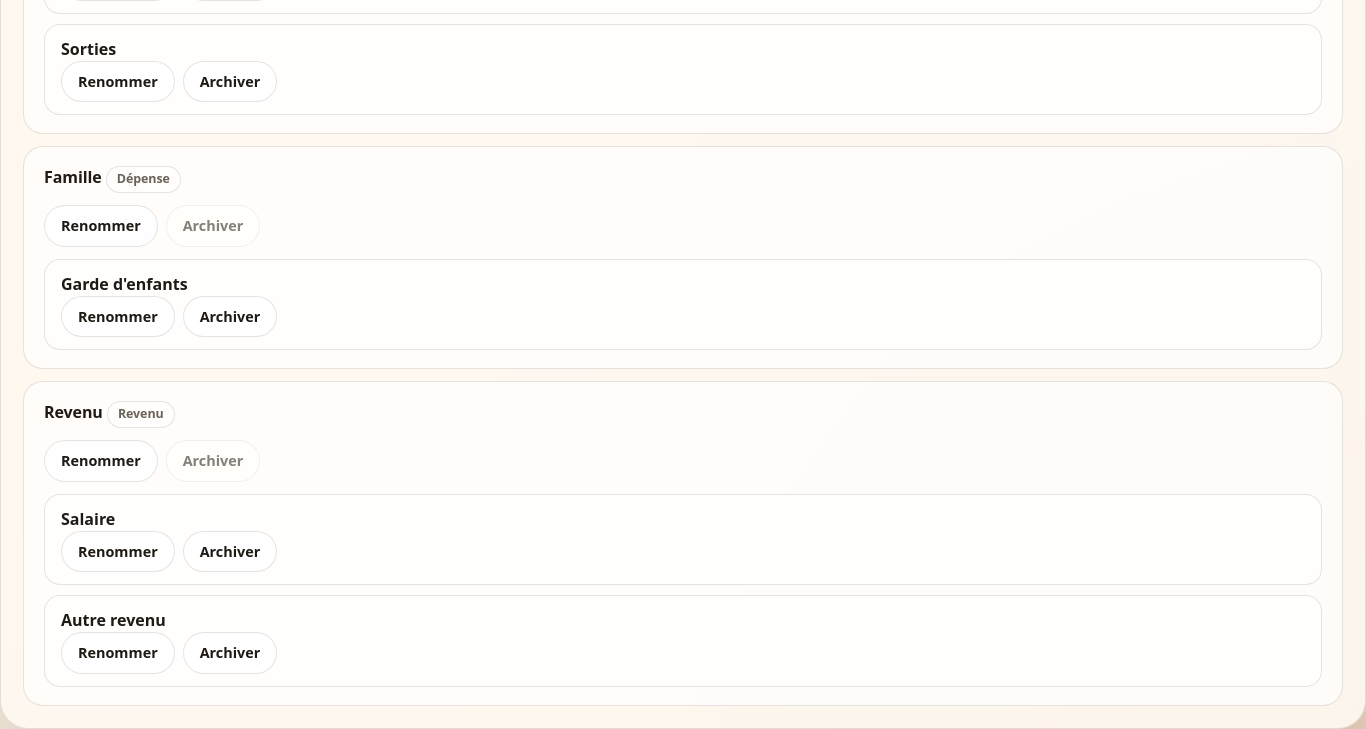
FinanceCategoriesPage › never offers Non catégorisé for an income category, and blocks archiving without a target
This screenshot has width=1366, height=729.
(page scrolled)
What coordinates should you click on to do the following:
click the button with aria-label "Archiver Salaire"
I would click on:
 (230, 551)
Its box is [183,530,277,572].
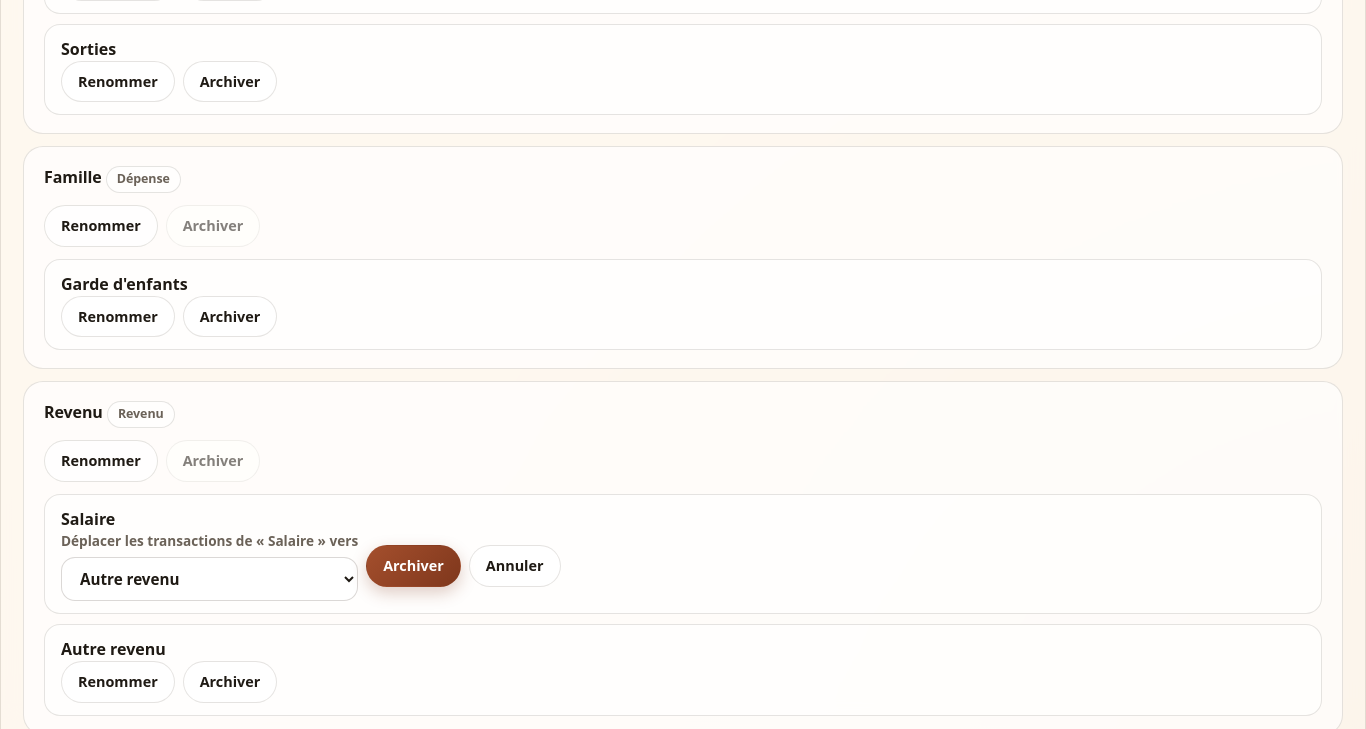
What coordinates should you click on to do the following:
click the button "Annuler"
I would click on:
 (515, 566)
Its box is [469,545,560,586].
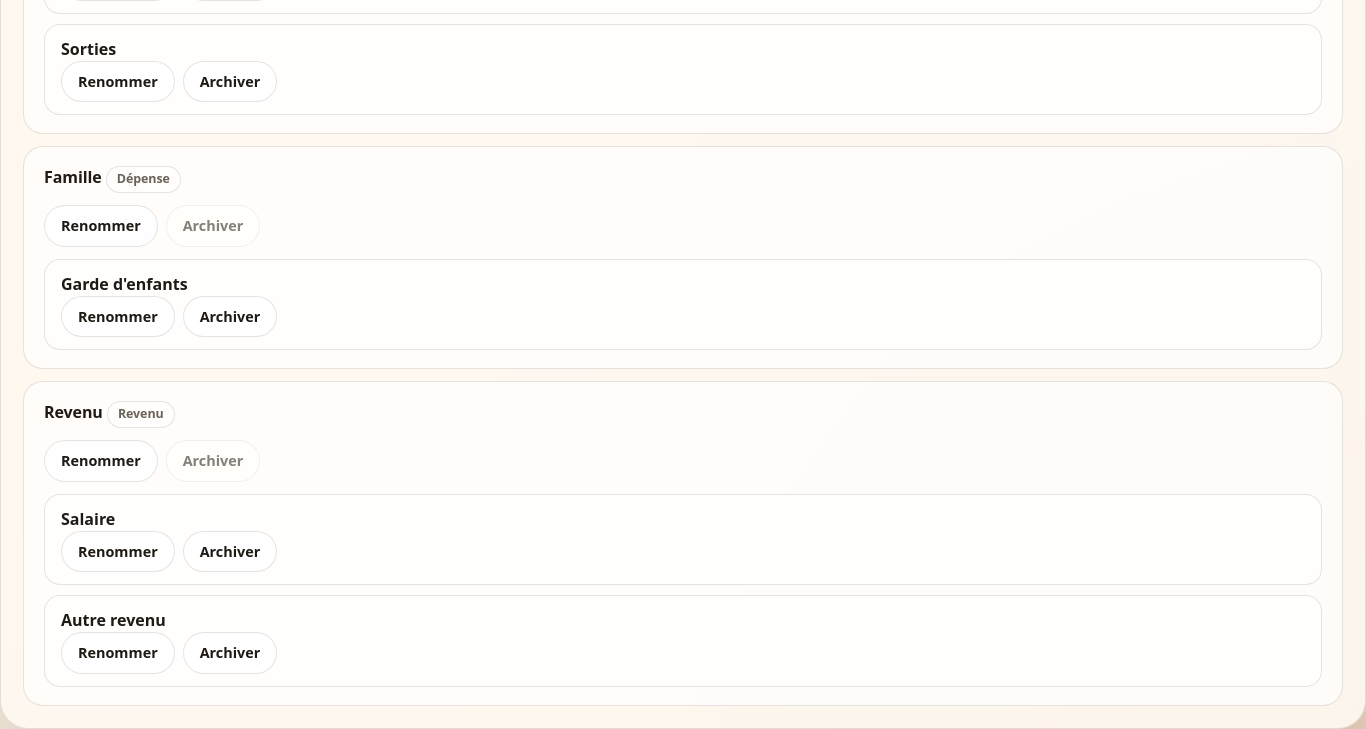
What coordinates should you click on to do the following:
click the button with aria-label "Archiver Autre revenu"
I would click on:
 (230, 653)
Its box is [183,632,277,674].
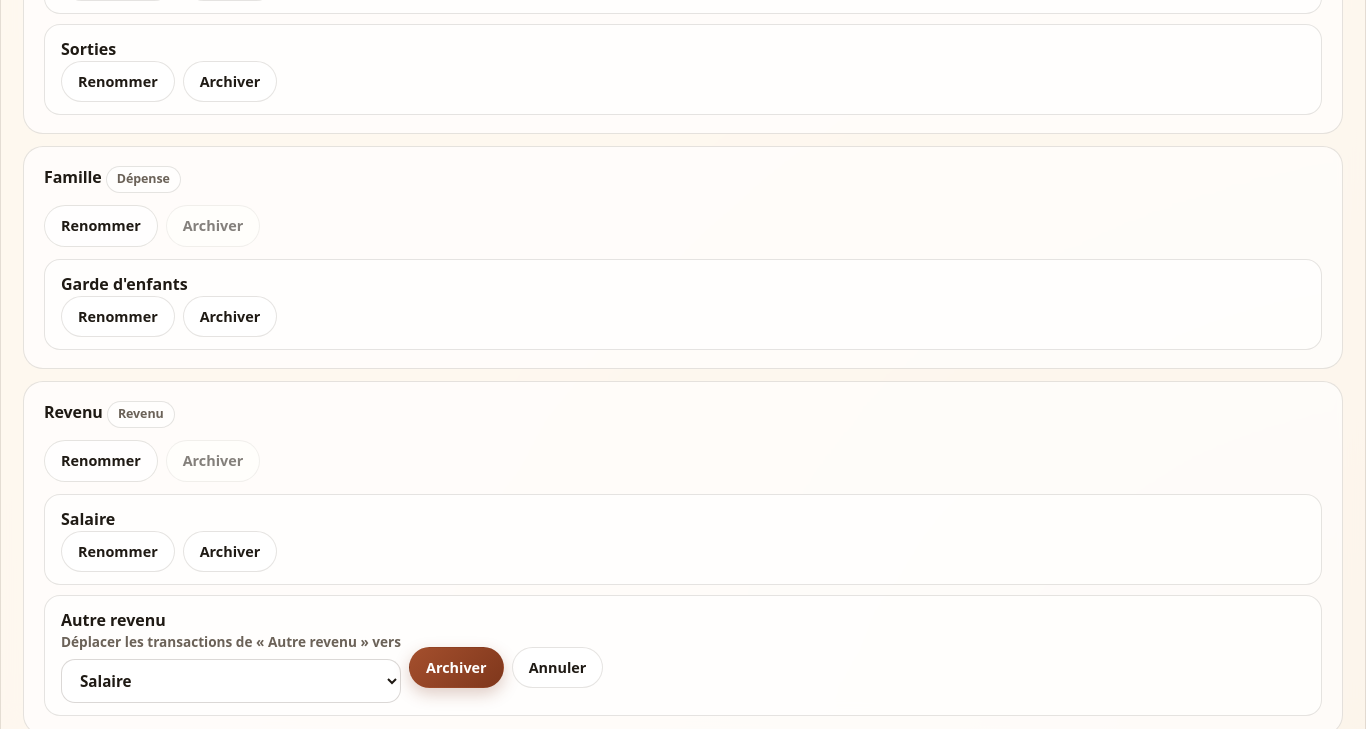
What coordinates should you click on to do the following:
click the 7th button "Archiver"
I would click on:
 (456, 667)
Its box is [409,646,504,688].
(page scrolled)
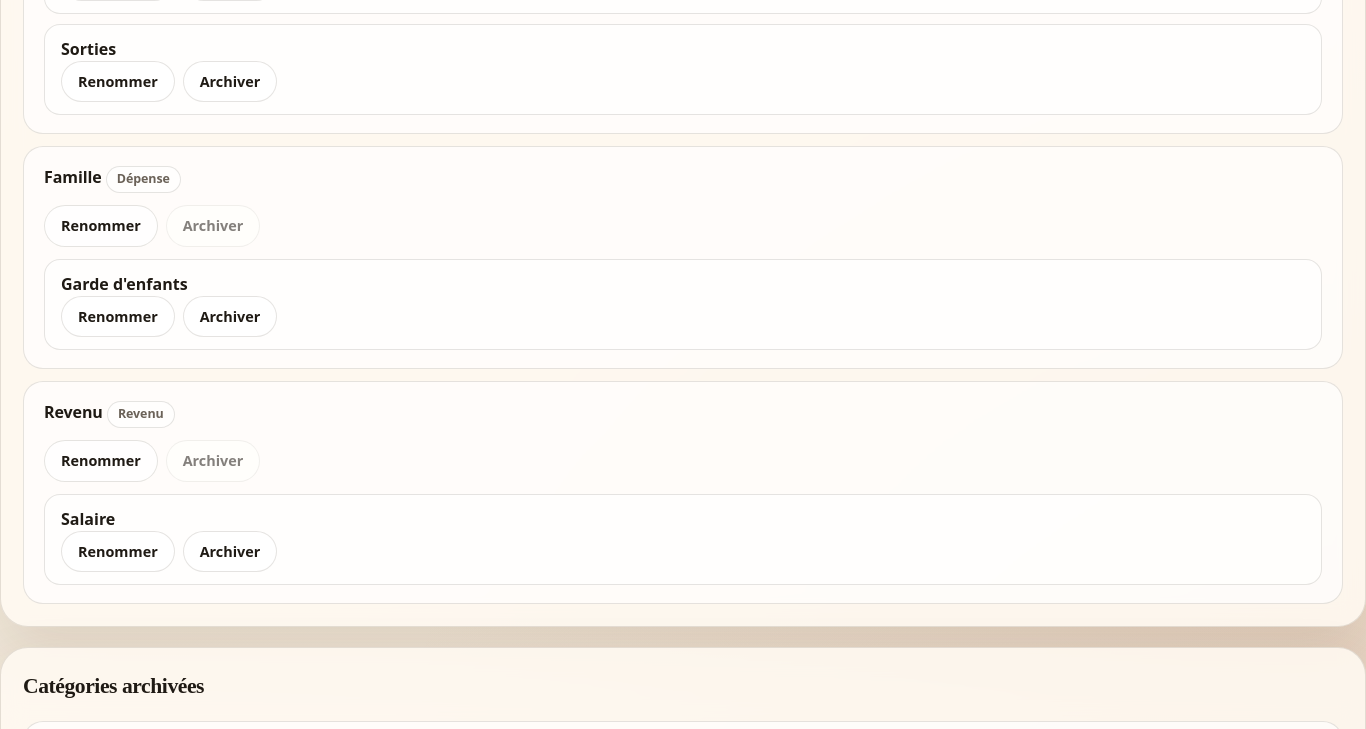
Check: the heading "Catégories archivées" is shown, box [23,670,204,703]
What coordinates should you click on to do the following:
click the button with aria-label "Archiver Salaire"
I would click on:
 (230, 551)
Its box is [183,531,277,572].
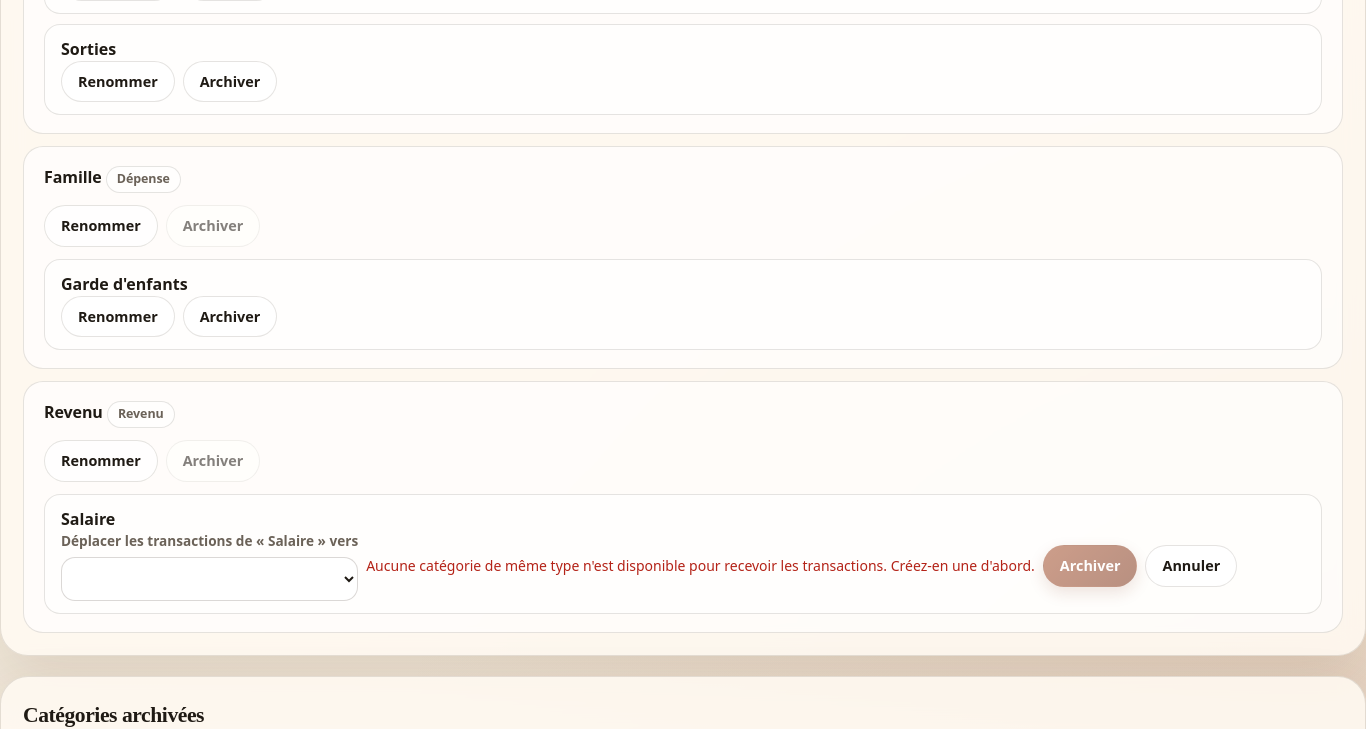
Check: the text "Aucune catégorie de même type" is shown, box [366,556,1035,575]
Check: the 6th button "Archiver" is disabled, box [1043,545,1138,587]
